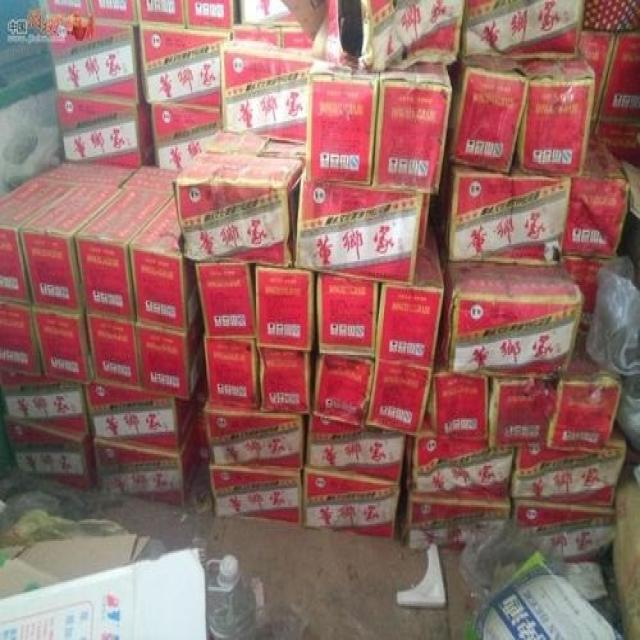box: (435, 232, 584, 381), (172, 128, 306, 268), (436, 147, 571, 268), (294, 179, 424, 287), (283, 0, 466, 75), (74, 189, 173, 323), (19, 183, 120, 314), (371, 61, 452, 195), (507, 420, 626, 507), (129, 193, 201, 335), (221, 32, 311, 145), (444, 58, 530, 176), (0, 176, 77, 305), (375, 224, 443, 370), (516, 56, 595, 179), (91, 422, 202, 507), (305, 60, 379, 186), (406, 415, 515, 500), (547, 331, 622, 451), (45, 17, 143, 106), (82, 379, 198, 454), (137, 26, 230, 116), (563, 135, 630, 259), (55, 90, 157, 169), (300, 466, 401, 543), (305, 413, 407, 485), (205, 396, 305, 469), (462, 0, 582, 58), (5, 420, 97, 490), (136, 311, 205, 401), (0, 370, 90, 435), (595, 29, 640, 159), (515, 502, 614, 561), (402, 497, 511, 550), (426, 350, 489, 440), (209, 466, 303, 526), (612, 444, 640, 640), (317, 271, 379, 358), (365, 358, 433, 437), (32, 305, 96, 386), (255, 266, 315, 350), (488, 375, 558, 447), (150, 102, 223, 171), (83, 309, 143, 391), (311, 353, 375, 427), (195, 261, 256, 336), (204, 338, 261, 410), (255, 345, 315, 413), (563, 256, 614, 331), (580, 31, 617, 133), (0, 300, 44, 377), (37, 160, 137, 189), (183, 0, 241, 32), (119, 166, 179, 195), (582, 0, 640, 29), (239, 0, 300, 27), (136, 0, 187, 29), (88, 0, 138, 27), (232, 24, 282, 48), (41, 0, 91, 19), (282, 22, 314, 49)
